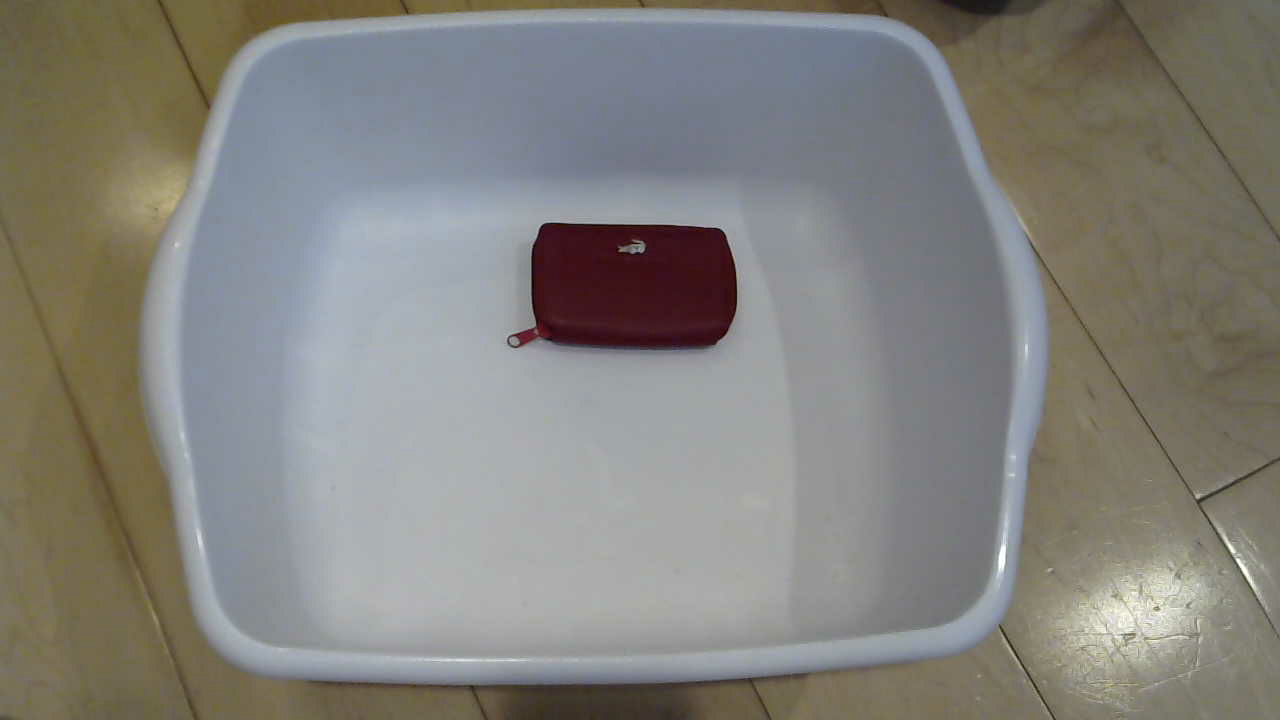wallet: (512, 201, 769, 393)
